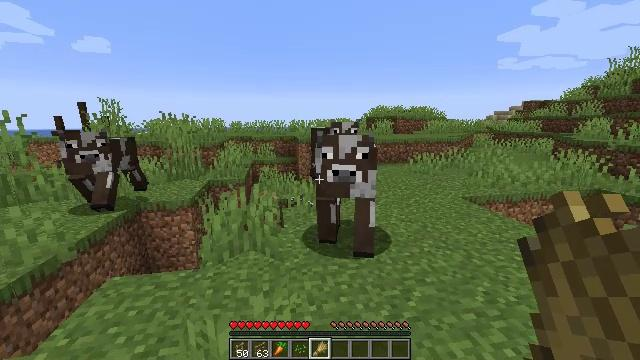cow: (58, 129, 146, 212), (317, 140, 377, 257), (311, 122, 359, 182)
